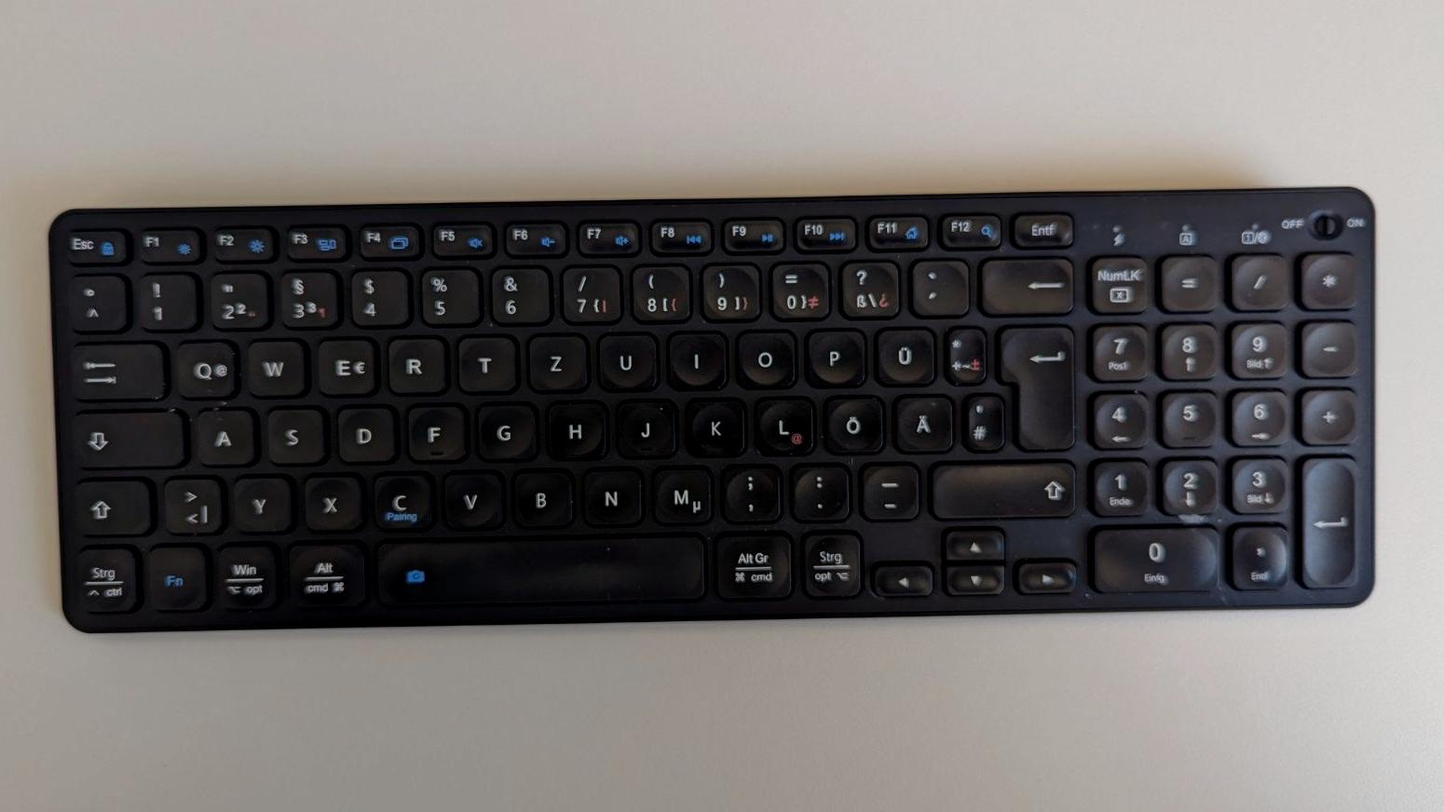0: (767, 257, 828, 318)
1: (135, 268, 195, 328)
2: (205, 267, 267, 326)
3: (276, 265, 337, 325)
4: (347, 264, 406, 323)
5: (416, 264, 478, 323)
6: (487, 263, 549, 322)
7: (558, 261, 620, 321)
8: (628, 260, 689, 320)
9: (697, 258, 759, 318)
a: (192, 403, 253, 464)
accent: (906, 254, 966, 313)
ae: (892, 389, 952, 450)
alt-left: (286, 536, 367, 607)
altgr-right: (710, 526, 792, 597)
b: (510, 466, 573, 525)
c: (369, 468, 432, 527)
caret: (64, 270, 124, 329)
comma: (718, 460, 780, 520)
d: (334, 401, 394, 462)
del: (977, 252, 1072, 312)
e: (314, 332, 375, 394)
enter: (996, 319, 1072, 448)
f: (404, 399, 464, 460)
g: (474, 399, 535, 458)
h: (544, 397, 605, 456)
hash: (960, 389, 1001, 448)
i: (665, 326, 726, 385)
j: (614, 395, 674, 455)
k: (683, 393, 744, 453)
keyboard: (46, 176, 1382, 635)
l: (752, 392, 812, 453)
less: (160, 471, 222, 532)
m: (648, 462, 711, 522)
minus: (857, 458, 918, 518)
n: (579, 464, 642, 524)
o: (734, 326, 796, 385)
oe: (822, 391, 882, 452)
p: (804, 324, 864, 383)
plus: (942, 322, 984, 381)
point: (787, 459, 848, 518)
q: (171, 335, 237, 397)
r: (385, 332, 445, 392)
s: (264, 402, 323, 462)
shift-left: (69, 473, 149, 535)
shift-lock: (70, 404, 182, 466)
shift-right: (927, 454, 1074, 516)
space: (375, 530, 705, 603)
ss: (836, 255, 898, 315)
strg-left: (64, 541, 138, 614)
strg-right: (798, 526, 862, 596)
t: (455, 331, 515, 390)
tab: (66, 335, 161, 399)
u: (595, 328, 656, 388)
ue: (873, 323, 933, 381)
v: (440, 467, 502, 526)
w: (244, 334, 304, 395)
x: (301, 469, 361, 529)
y: (230, 471, 291, 530)
z: (524, 330, 586, 389)
